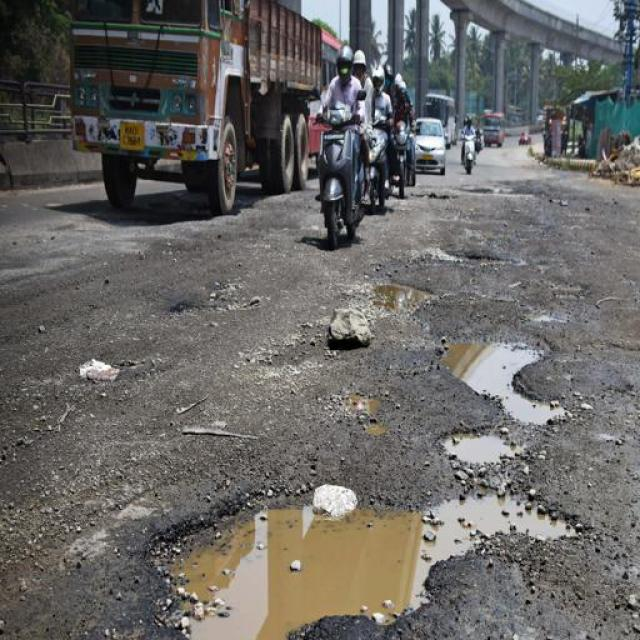puddle: (172, 518, 434, 622), (448, 339, 523, 401)
